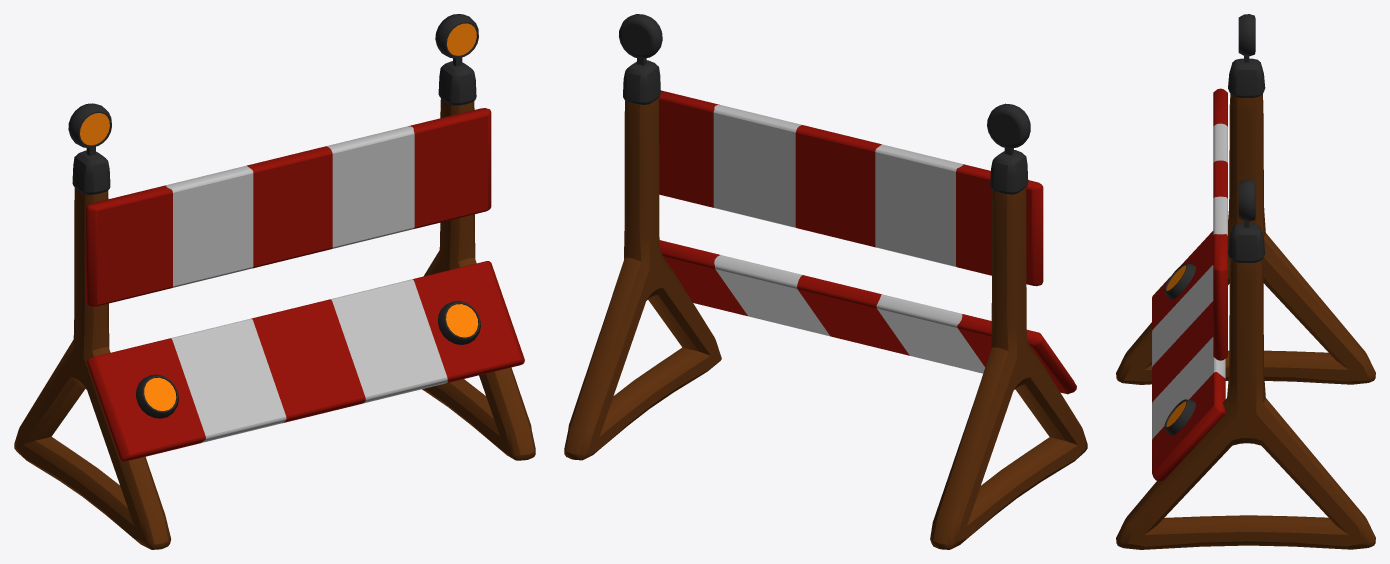
File: Valla Just Up.FBX
3 views of the same model, side by side, from view 1: azimuth 30°, elevation 25°; view 2: azimuth 150°, elevation 25°; view 3: azimuth 270°, elevation 25° (orthographic). The views are drawn at different scales.
Parts seen in each view (by area): view 1: Object008, Object004, Box007, Object005, Object013, Pivote002; view 2: Box007, Object004, Object008, Object005, Pivote002; view 3: Box007, Object008, Object004, Pivote002, Object005, Object013.
Part boxes in pixels (bbox=[...]): Object008: bbox=[87, 261, 524, 461]; Object004: bbox=[86, 108, 491, 306]; Box007: bbox=[14, 99, 535, 549]; Object005: bbox=[68, 14, 478, 155]; Object013: bbox=[136, 301, 480, 418]; Pivote002: bbox=[72, 61, 476, 194]; Box007: bbox=[564, 98, 1087, 549]; Object004: bbox=[658, 90, 1043, 286]; Object008: bbox=[659, 240, 1076, 394]; Object005: bbox=[619, 14, 1030, 155]; Pivote002: bbox=[623, 60, 1028, 194]; Box007: bbox=[1116, 94, 1375, 549]; Object008: bbox=[1152, 231, 1225, 481]; Object004: bbox=[1213, 88, 1227, 360]; Pivote002: bbox=[1228, 58, 1265, 262]; Object005: bbox=[1238, 14, 1255, 227]; Object013: bbox=[1164, 263, 1195, 435].
Size of the model in its own units: 151 by 140 by 90.23.
